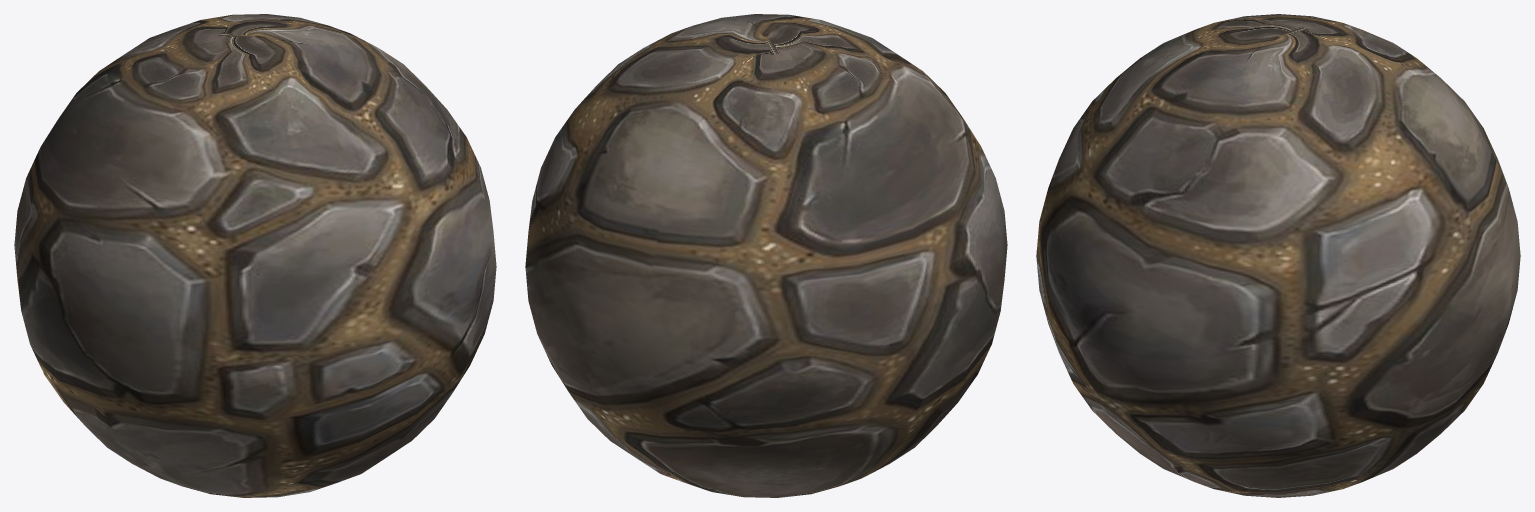
File: Ball.obj
3 renders of one model, left to right at view 1: azimuth 30°, elevation 25°; view 2: azimuth 150°, elevation 25°; view 3: azimuth 270°, elevation 25°, orthographic.
Parts seen in each view (by area): view 1: Ball.002; view 2: Ball.002; view 3: Ball.002.
Part boxes in pixels (x1=…): Ball.002: x1=14, y1=14, x2=496, y2=497; Ball.002: x1=525, y1=14, x2=1007, y2=497; Ball.002: x1=1036, y1=14, x2=1520, y2=497.
Size of the model in its own units: 2 by 2 by 2.
